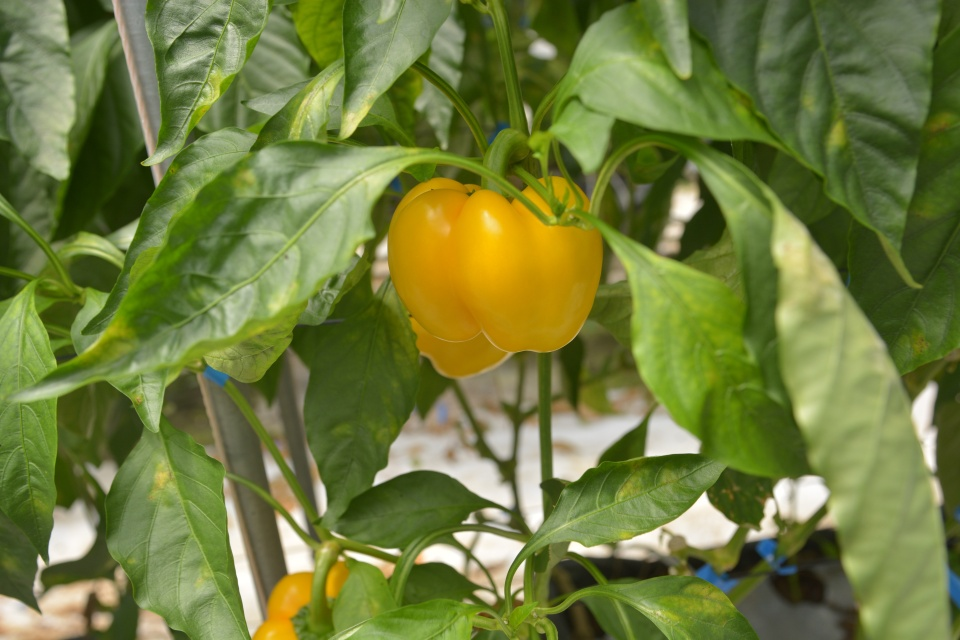fruit: (384, 171, 607, 381), (250, 558, 352, 640)
pedicle: (286, 594, 339, 640)
